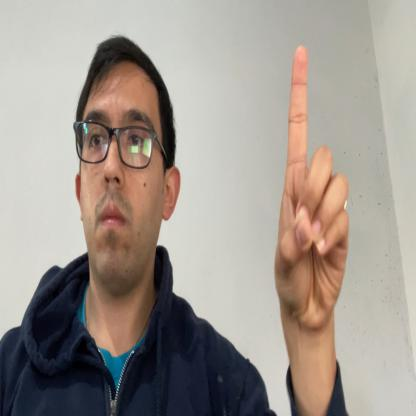D: (274, 46, 349, 328)
